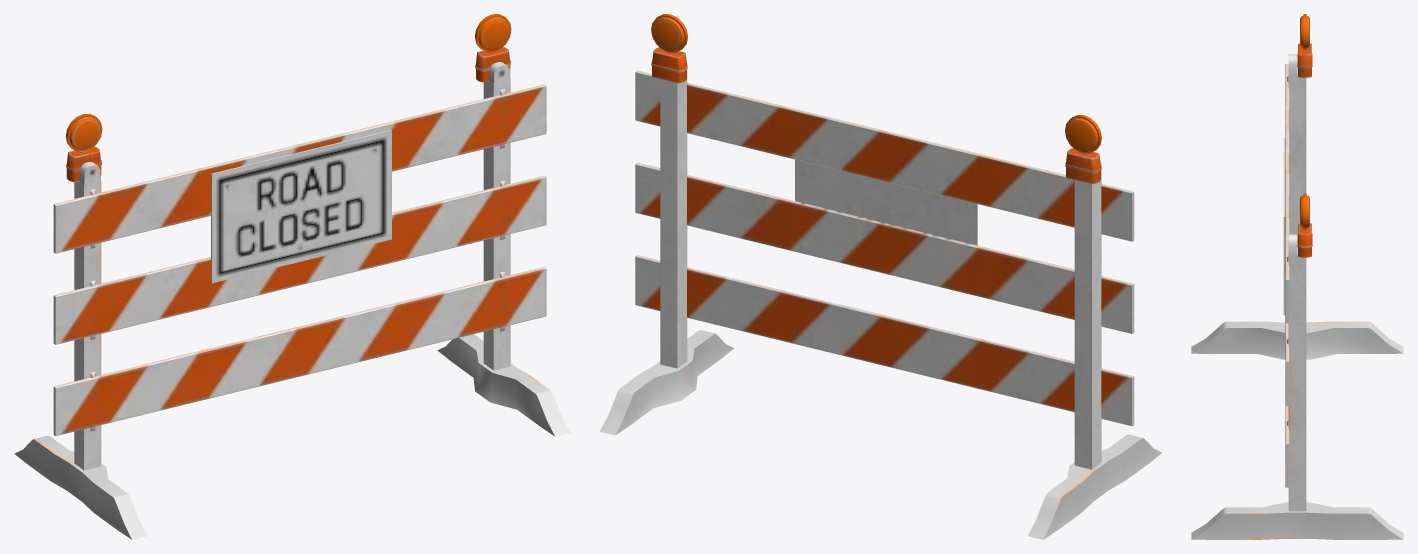
Rendered from roadblock.glb.
3 renders of one model, left to right at view 1: azimuth 30°, elevation 25°; view 2: azimuth 150°, elevation 25°; view 3: azimuth 270°, elevation 25°, orthographic. The views are drawn at different scales.
Parts seen in each view (by area): view 1: Roadblock2; view 2: Roadblock2; view 3: Roadblock2.
Boxes of the visible parts, left/top/right/bottom form: Roadblock2: left=14, top=14, right=570, bottom=539; Roadblock2: left=599, top=14, right=1162, bottom=539; Roadblock2: left=1191, top=14, right=1403, bottom=539.
Bounding box in the file's own units: 0.9873 × 0.7208 × 0.4104.
1 material, 1 textured.
